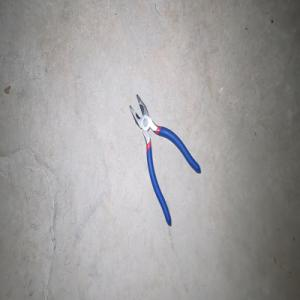Pliers: (129, 93, 200, 226)
